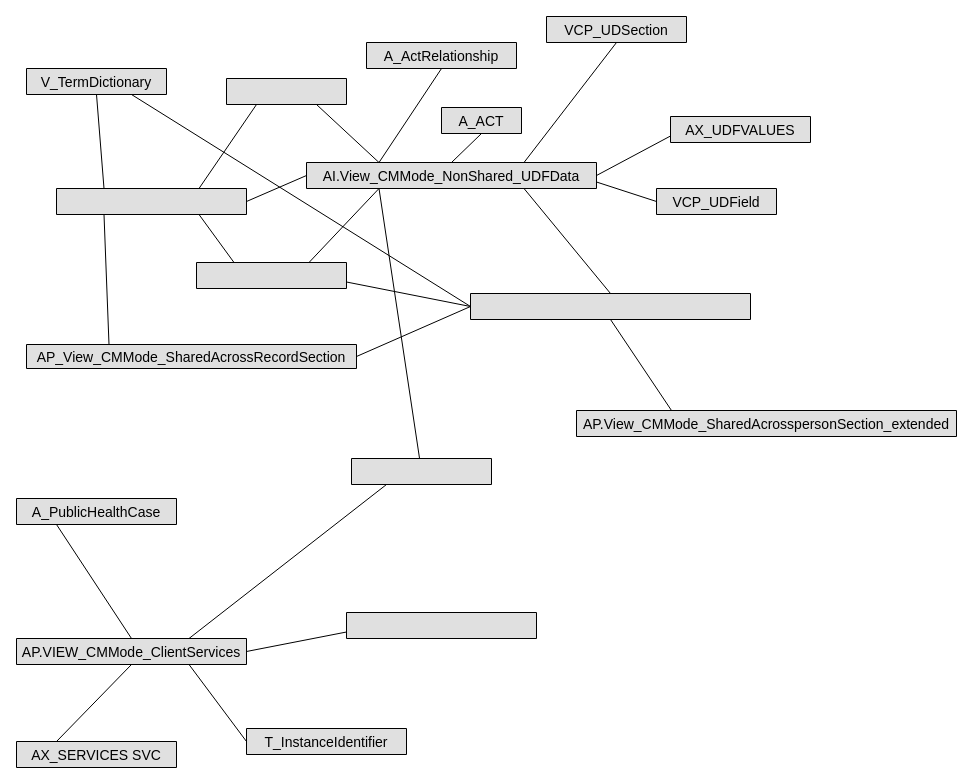
The diagram is 973 pixels wide and 784 high, and some of its shapes have lost their labels. The shapes that lost their labels are listed below. From the top down, each one's box as (x1, y1, x2, y2) in pixels, then its label:
(226, 78, 346, 104): VCP_UDForm
(56, 188, 246, 214): AP.View_CMMode_UDFData
(196, 262, 346, 288): V_UnifiedCodeSet
(470, 292, 750, 320): AP.View_CMMode_UDFData_Extended
(350, 458, 492, 484): A_Act ACTCASE
(346, 612, 536, 638): T_EntityName ENTNAME
